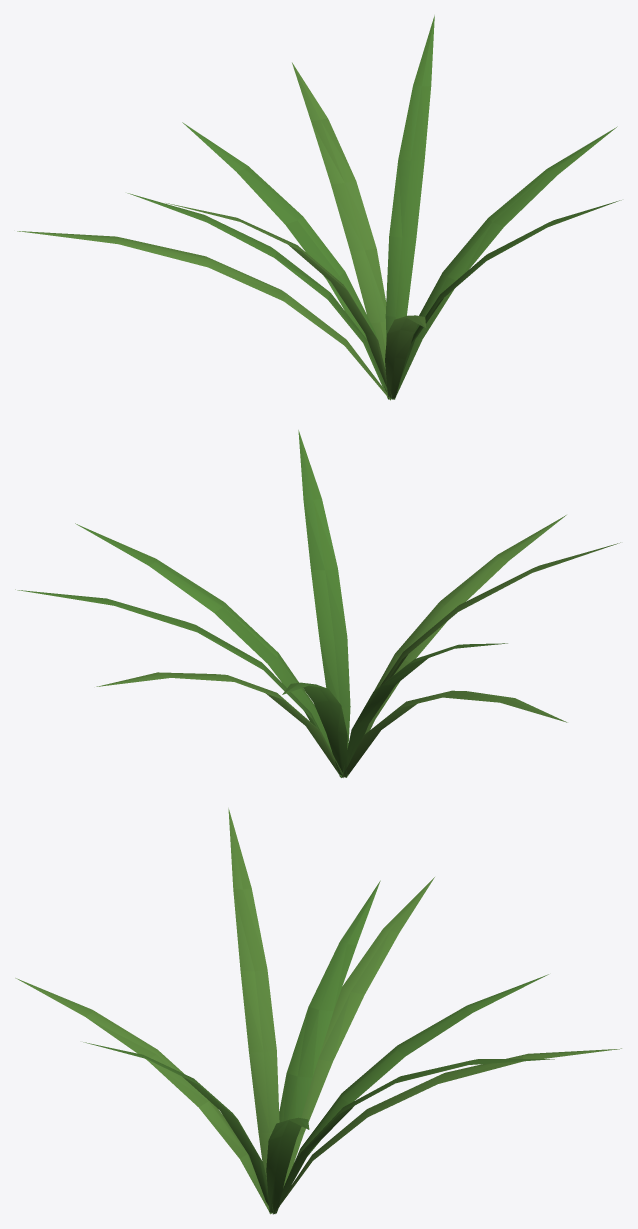
The model's file is crop-rice-young.glb.
The picture shows the model from 3 angles, top to bottom: view 1: azimuth 30°, elevation 25°; view 2: azimuth 150°, elevation 25°; view 3: azimuth 270°, elevation 25°; orthographic projection. The views are drawn at different scales.
Parts seen in each view (by area): view 1: crop-rice-young-kit; view 2: crop-rice-young-kit; view 3: crop-rice-young-kit.
Boxes of the visible parts, x1,y1,x2,y2 form: crop-rice-young-kit: [17, 15, 621, 400]; crop-rice-young-kit: [15, 430, 620, 777]; crop-rice-young-kit: [15, 808, 621, 1214].
Size of the model in its own units: 0.7811 by 0.3765 by 0.7409.
